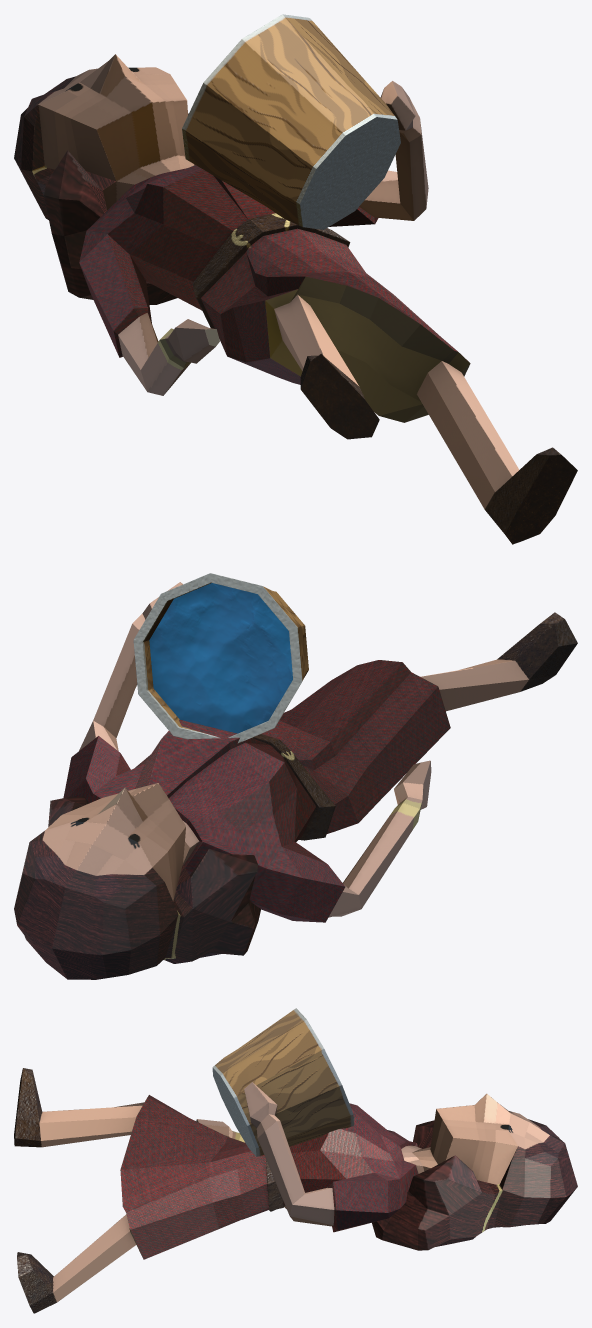
File: Walk_Aldeana_6.obj
3 renders of one model, top to bottom at view 1: azimuth 30°, elevation 25°; view 2: azimuth 150°, elevation 25°; view 3: azimuth 270°, elevation 25°, orthographic. The views are drawn at different scales.
Parts seen in each view (by area): view 1: Aldeana.001; view 2: Aldeana.001; view 3: Aldeana.001.
Boxes of the visible parts, <box> form: Aldeana.001: <box>14,14,577,544</box>; Aldeana.001: <box>14,573,577,979</box>; Aldeana.001: <box>14,1008,577,1313</box>.
Bounding box in the file's own units: 1.1 × 1.29 × 2.38.
